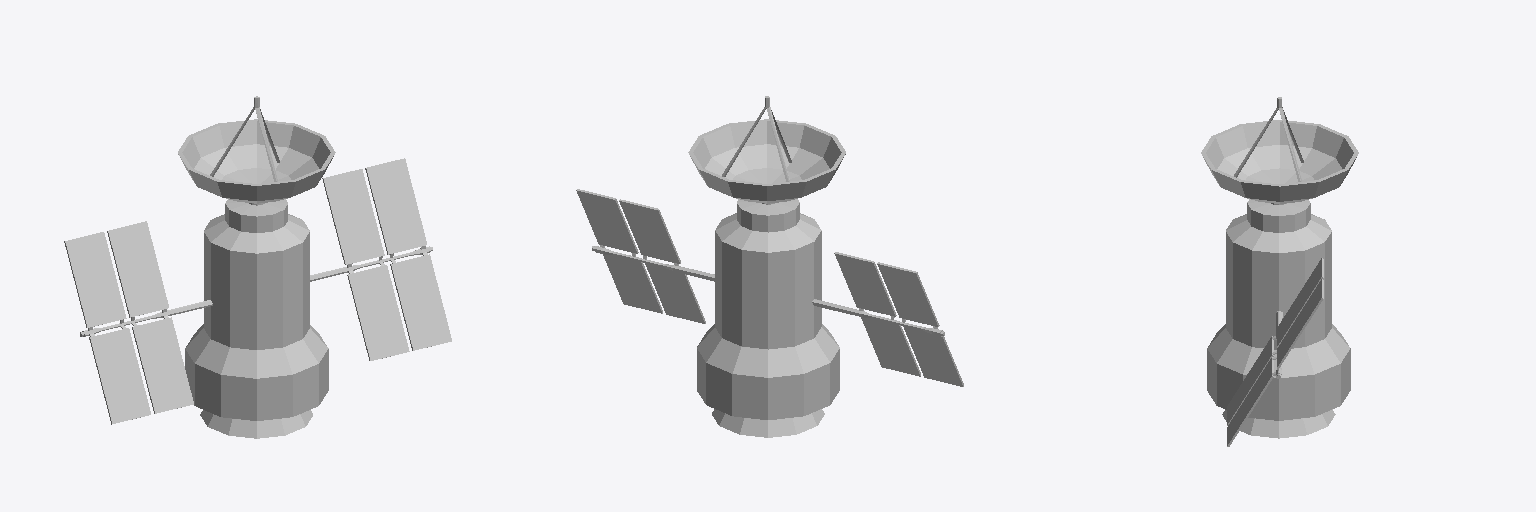
Rendered from Satellite1.obj.
3 views of the same model, side by side, from view 1: azimuth 30°, elevation 25°; view 2: azimuth 150°, elevation 25°; view 3: azimuth 270°, elevation 25° (orthographic).
Parts seen in each view (by area): view 1: Satellite; view 2: Satellite; view 3: Satellite.
Boxes of the visible parts, x1,y1,x2,y2 form: Satellite: [64, 96, 451, 438]; Satellite: [576, 96, 963, 437]; Satellite: [1201, 97, 1358, 446].
Size of the model in its own units: 2.79 by 2.41 by 1.09.